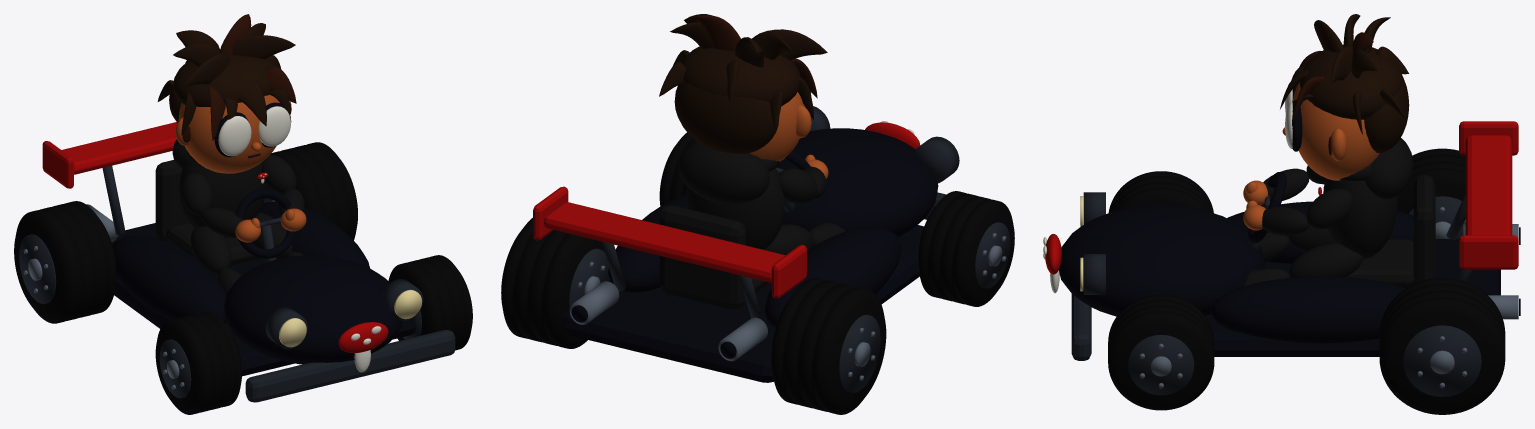
File: GautamDriving.glb
3 views of the same model, side by side, from view 1: azimuth 30°, elevation 25°; view 2: azimuth 150°, elevation 25°; view 3: azimuth 270°, elevation 25° (orthographic). The views are drawn at different scales.
Parts seen in each view (by area): view 1: CHASSIS, GAUTAM_SEATED, WHEEL_RL, WHEEL_FL, WHEEL_FR, WHEEL_RR; view 2: CHASSIS, GAUTAM_SEATED, WHEEL_RL, WHEEL_RR, WHEEL_FL, WHEEL_FR; view 3: CHASSIS, GAUTAM_SEATED, WHEEL_RR, WHEEL_FR, WHEEL_RL, WHEEL_FL.
Boxes of the visible parts, box(x1,y1,x2,y2) form: CHASSIS: box(42, 122, 455, 402); GAUTAM_SEATED: box(157, 14, 306, 293); WHEEL_RL: box(14, 201, 116, 323); WHEEL_FL: box(155, 311, 241, 414); WHEEL_FR: box(388, 255, 472, 350); WHEEL_RR: box(264, 142, 357, 240); CHASSIS: box(533, 106, 959, 382); GAUTAM_SEATED: box(659, 14, 845, 255); WHEEL_RL: box(771, 277, 886, 414); WHEEL_RR: box(501, 218, 609, 348); WHEEL_FL: box(918, 191, 1014, 306); WHEEL_FR: box(659, 132, 697, 206); CHASSIS: box(1043, 121, 1520, 360); GAUTAM_SEATED: box(1243, 14, 1413, 286); WHEEL_RR: box(1379, 277, 1505, 414); WHEEL_FR: box(1108, 294, 1214, 410); WHEEL_RL: box(1397, 148, 1465, 238); WHEEL_FL: box(1108, 171, 1213, 213).
Bounding box in the file's own units: 1.74 × 1.57 × 2.16.
